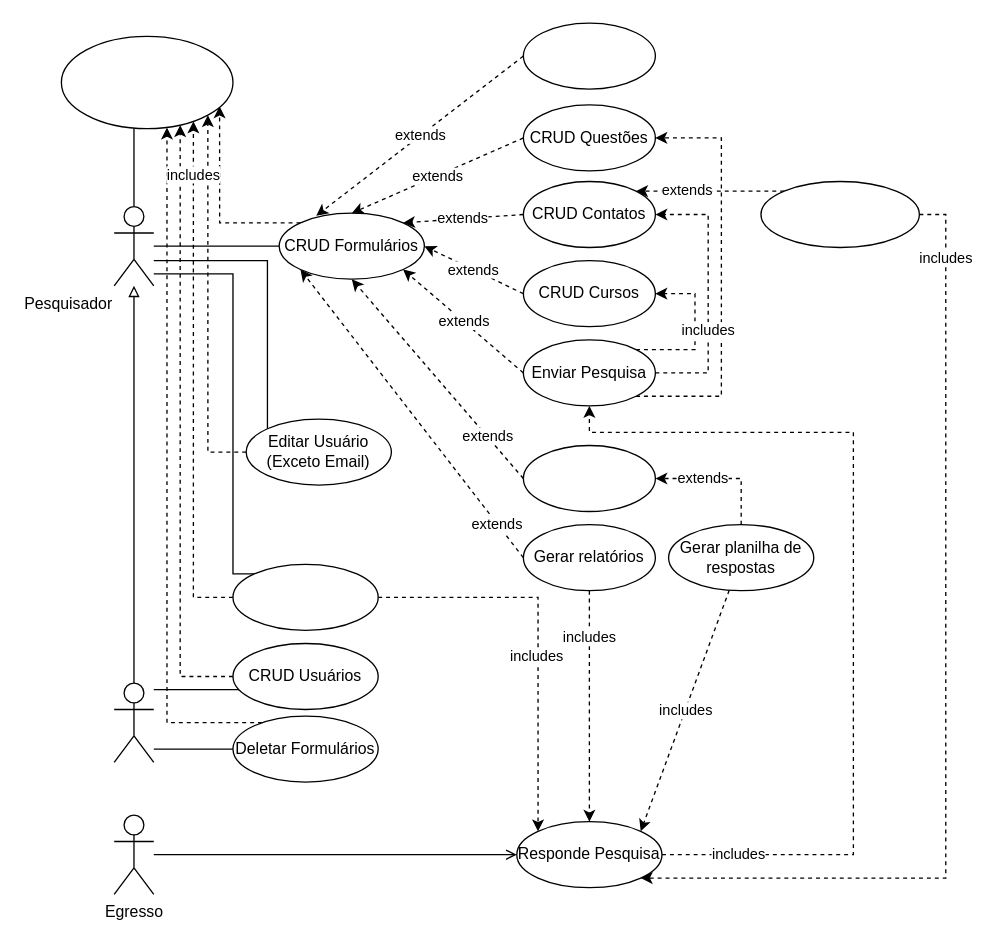
Image size: 994x945. Some labels were removed from this diagram. The shapes that lost their labels are listed below. From the top down, each one's box as (x1, y1, x2, y2) in pixels, then its label:
(522, 22, 655, 89): CRUD Formulários Derivados
(60, 35, 233, 129): Fazer Login
(760, 180, 919, 248): Visualizar resposta individual
(522, 444, 655, 512): Visualizar Respostas
(232, 563, 378, 630): Gerar gráficos
(113, 682, 154, 762): Administrador
